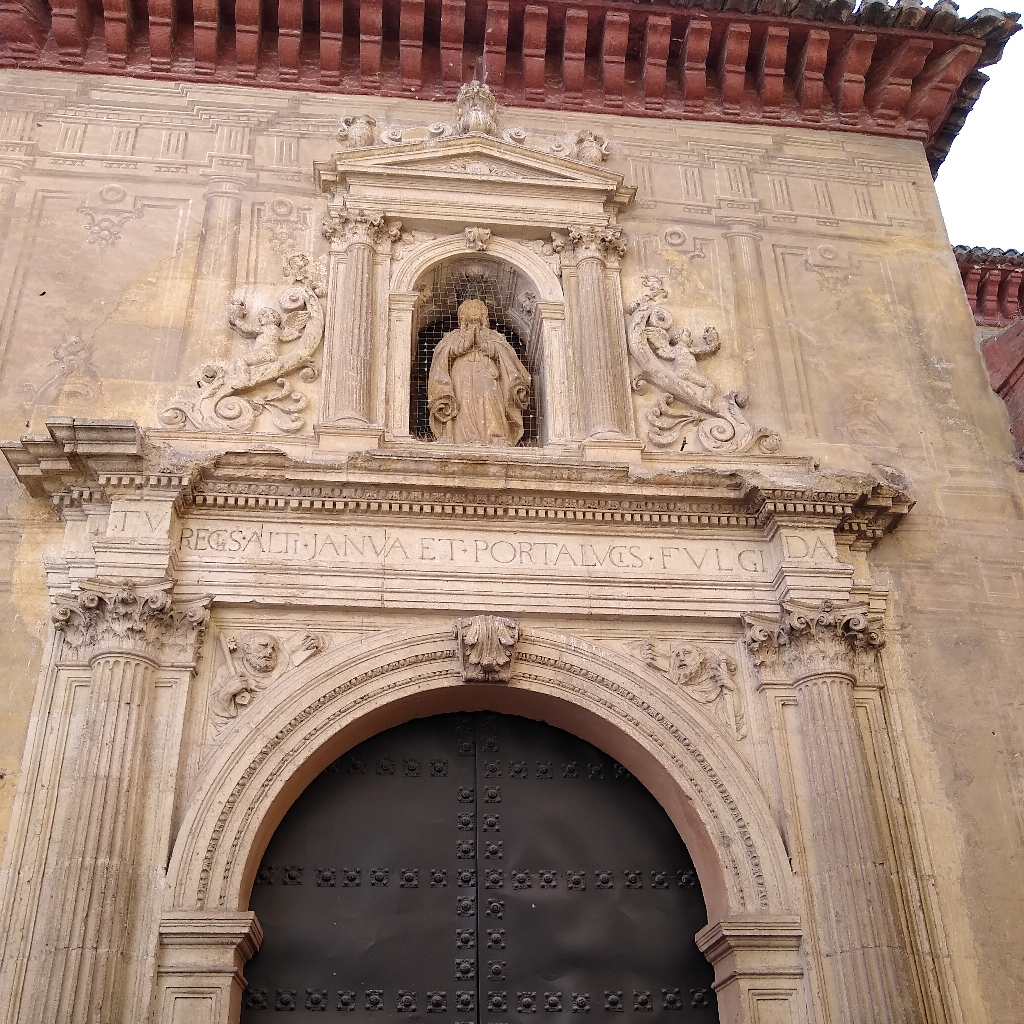arco-medio-punto: (211, 669, 763, 998), (403, 243, 551, 330)
fronton: (332, 127, 628, 194)
